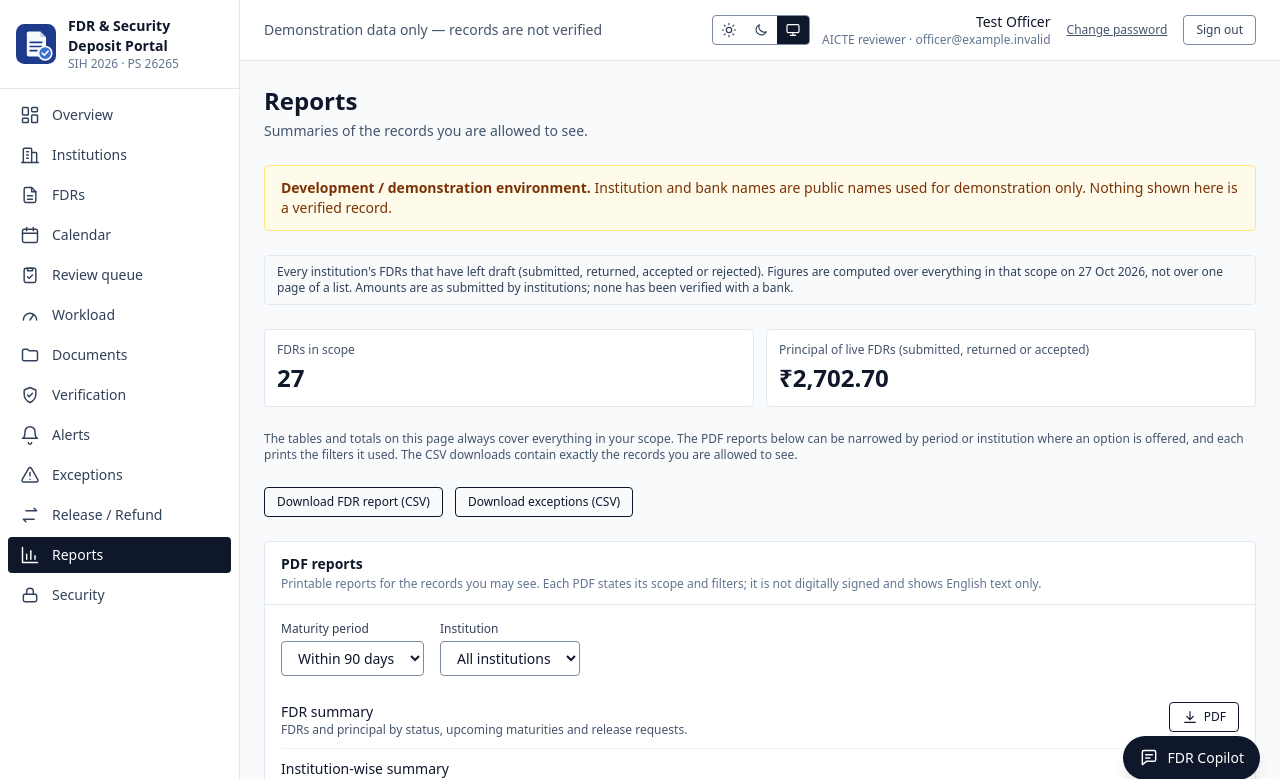
Scenario: reports › reports a refused or failed export without pretending it worked
Click the button "Download FDR report (CSV)".
click(353, 502)  # box x1=264 y1=487 x2=443 y2=517
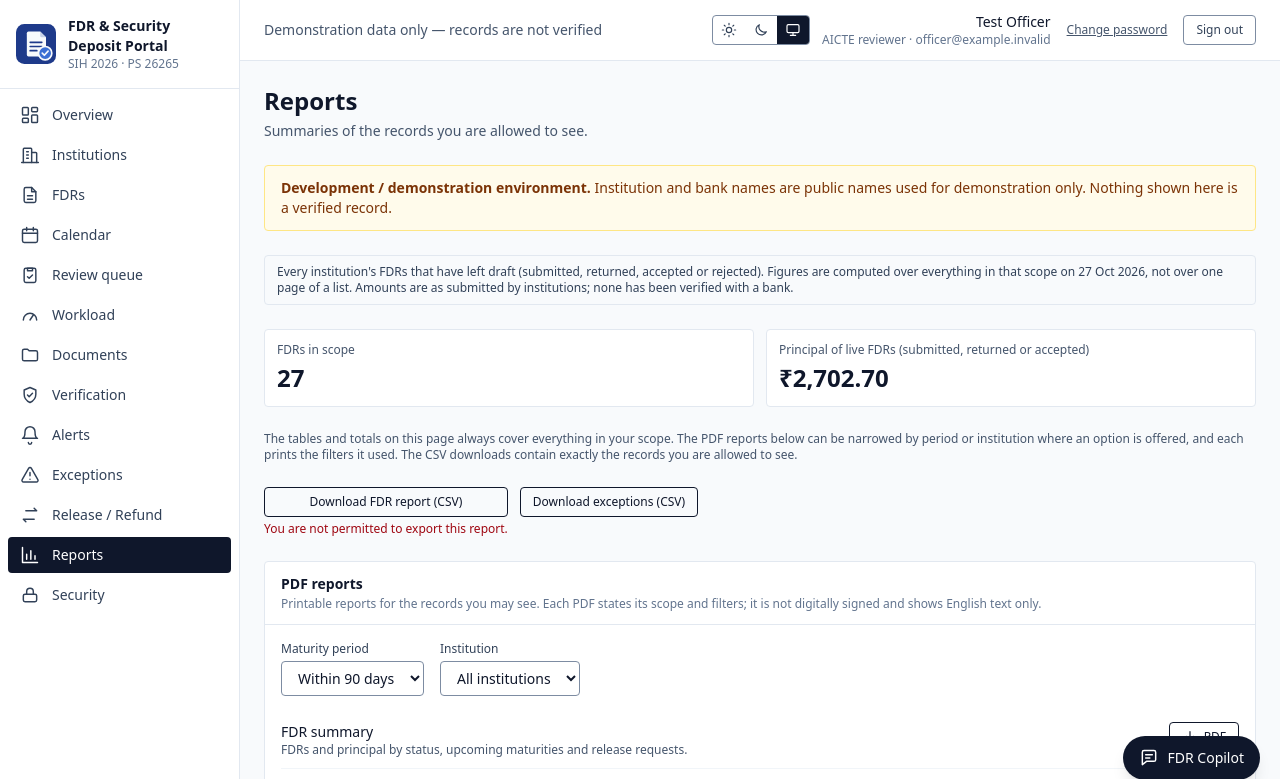
Check: the message shows "not permitted to export", box x1=264 y1=520 x2=508 y2=537
